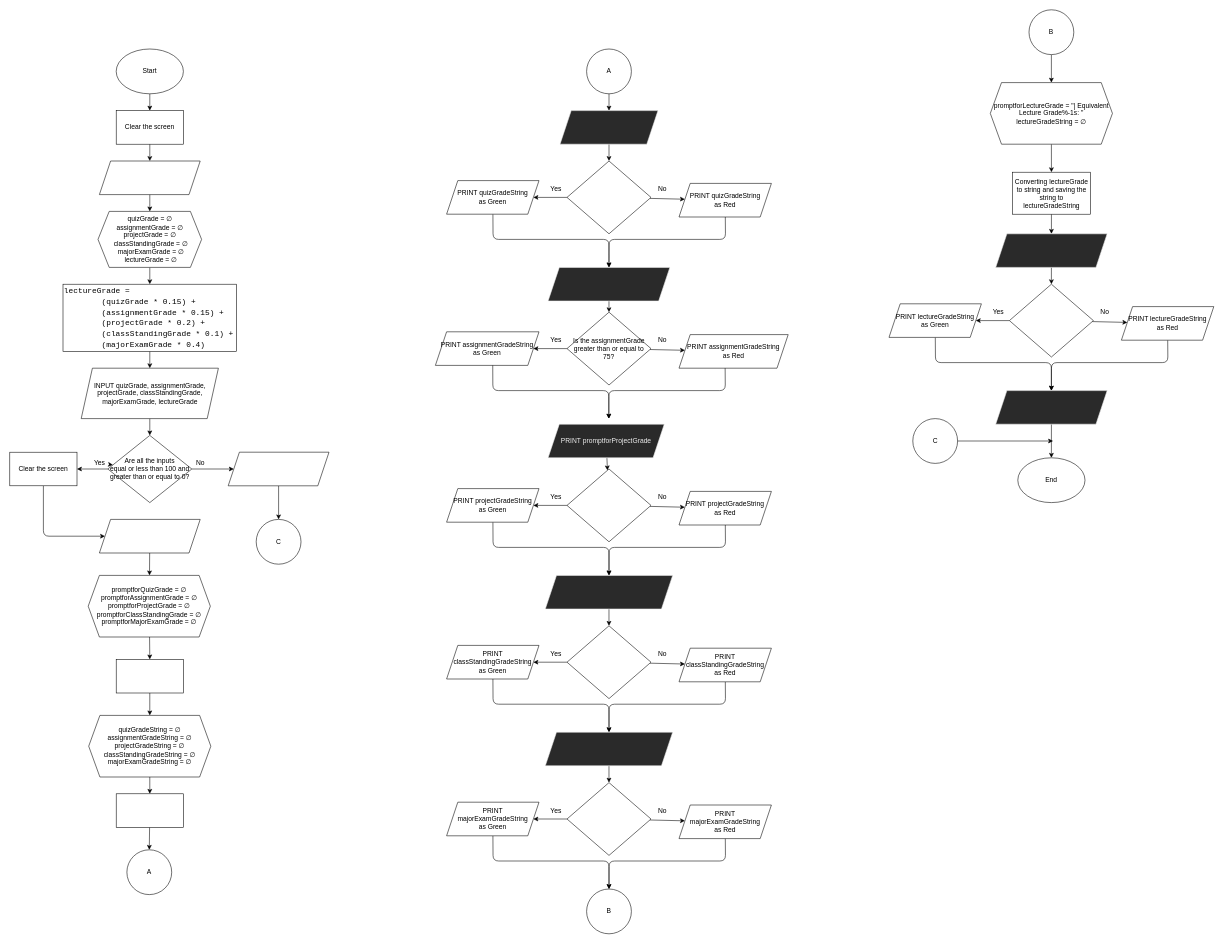
Some shapes in this 1224 by 944 pixel diagram are drawn without their labels. Here are the shapes that lost their labels. From the top down, the centre of each, then its label:
[608,127]: PRINT promptforQuizGrade
[149,177]: PRINT the form header
[608,197]: Is the quizGrade greater than or equal to 75?
[1051,250]: PRINT promptforLectureGrade
[609,284]: PRINT promptforAssignmentGrade
[1051,320]: Is the lectureGrade greater than or equal to 75?
[1051,407]: PRINT form footer
[278,469]: PRINT "Error: Invalid input. Please try again."
[608,505]: Is the projectGrade greater than or equal to 75?
[149,536]: PRINT The form output header
[609,592]: PRINT promptforClassStandingGrade
[149,676]: Assigning string to the prompts
[608,662]: Is the classStandingGrade greater than or equal to 75?
[609,749]: PRINT promptforMajorExamGrade
[149,810]: Converting grades floats to string
[608,818]: Is the majorExamGrade greater than or equal to 75?
